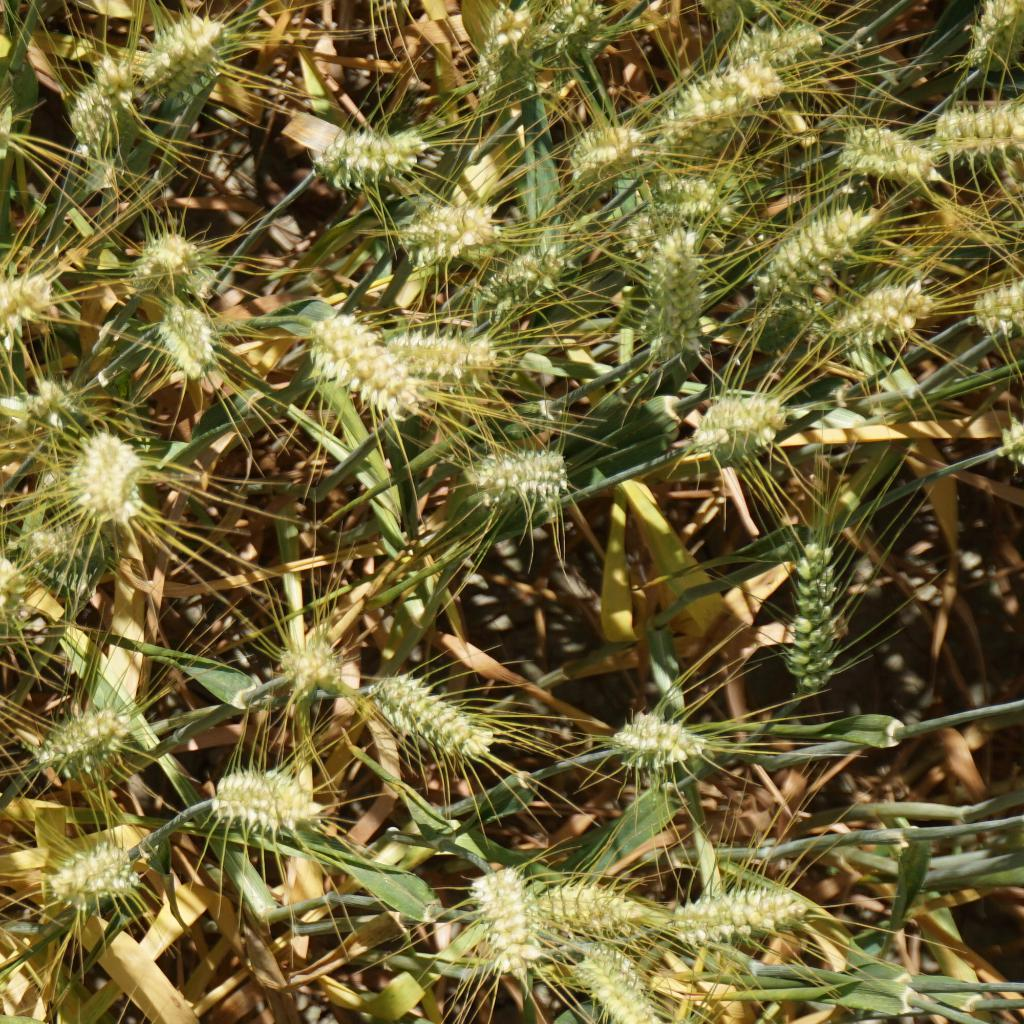0-0: (300, 303, 413, 417), (646, 54, 781, 137), (378, 678, 489, 762), (787, 541, 850, 688), (763, 201, 859, 290), (454, 440, 571, 511), (392, 196, 498, 269), (474, 864, 544, 969), (683, 394, 787, 464), (31, 705, 128, 780), (134, 16, 220, 100), (673, 888, 803, 941), (306, 121, 419, 179), (838, 123, 930, 193), (651, 231, 706, 348), (76, 438, 145, 527), (838, 281, 931, 346), (568, 110, 648, 181), (54, 835, 135, 905), (538, 877, 641, 932), (624, 171, 734, 222), (583, 951, 659, 1024), (388, 327, 489, 378), (209, 775, 292, 836), (474, 247, 553, 308), (938, 98, 1024, 153), (131, 224, 207, 286), (474, 7, 527, 95), (66, 78, 123, 156), (607, 715, 702, 759), (160, 302, 217, 373), (734, 15, 814, 65), (0, 267, 53, 339), (540, 0, 604, 56), (283, 642, 345, 692), (34, 536, 113, 574), (970, 284, 1024, 337), (761, 291, 822, 336), (977, 0, 1016, 70), (98, 54, 139, 120), (22, 379, 73, 428), (996, 407, 1024, 476), (0, 565, 30, 627), (0, 92, 16, 157)
